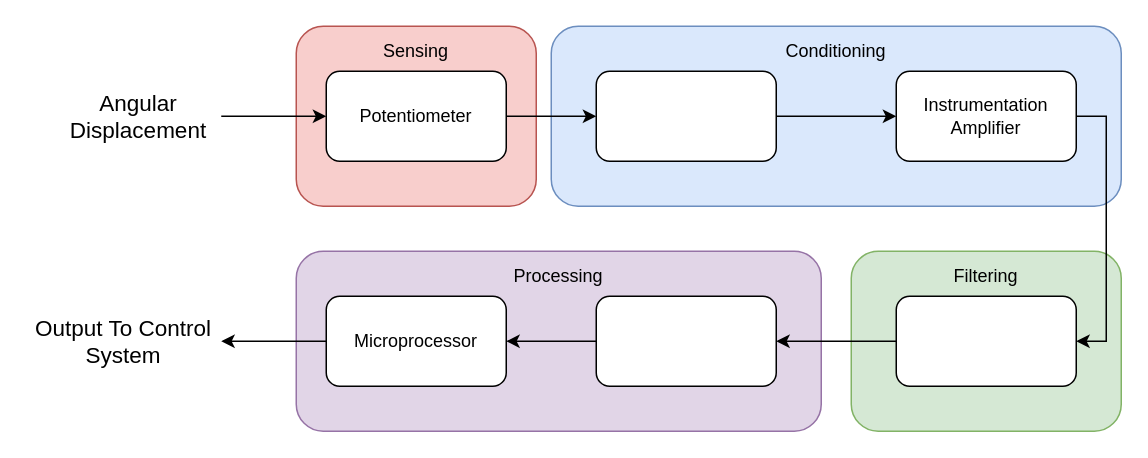
Some shapes in this 1148 by 458 pixel diagram are drawn without their labels. Each missing label, with the centre of its shape:
"Analogue-to-Digital Converter" goes at (685,340).
"Anti-Aliasing Filter" goes at (985,340).
"Wheatstone Bridge" goes at (685,115).
